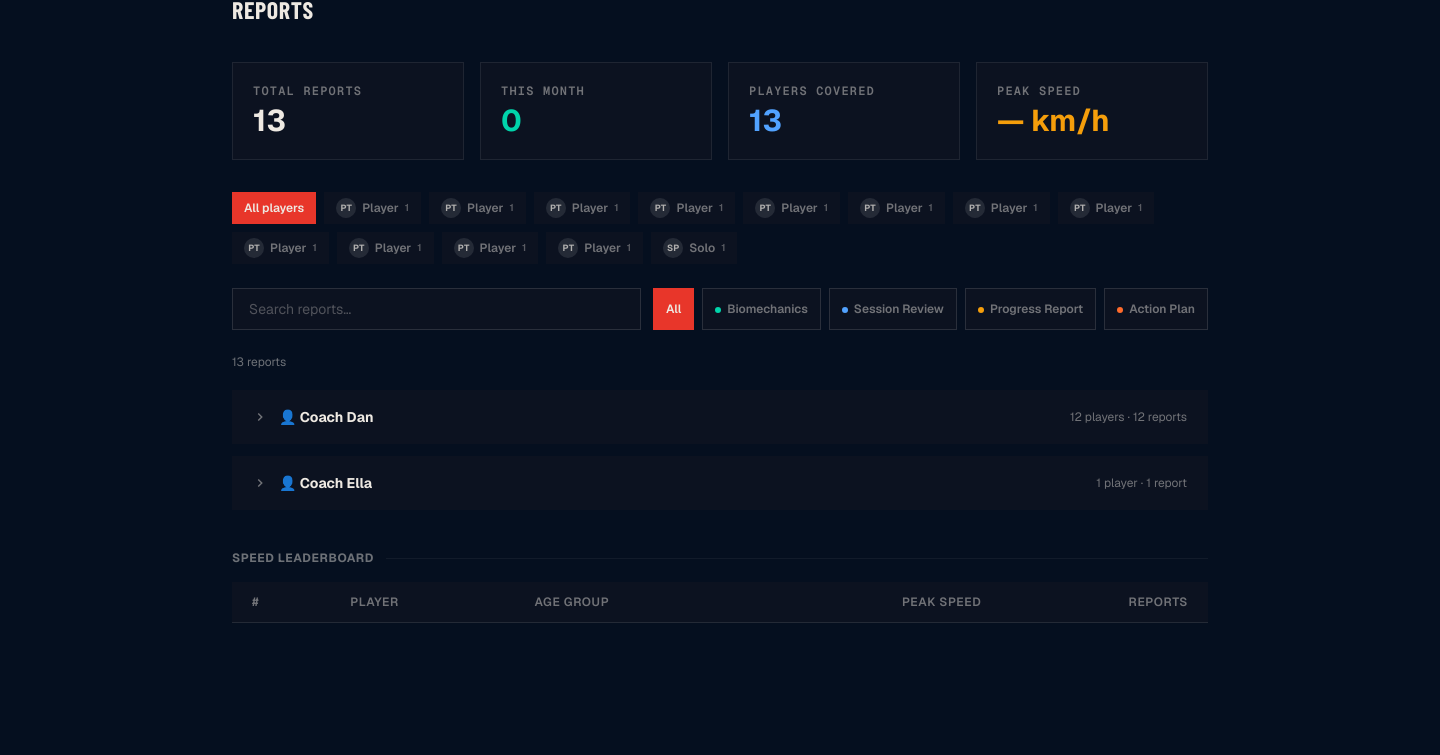
Test case: ReportsClient › paginates a large roster within an open coach group and resets to page 1 on a new coach
This screenshot has width=1440, height=755.
Click the text "👤 Coach Dan" at [326, 417], box 279,408 -> 374,426
(page scrolled)
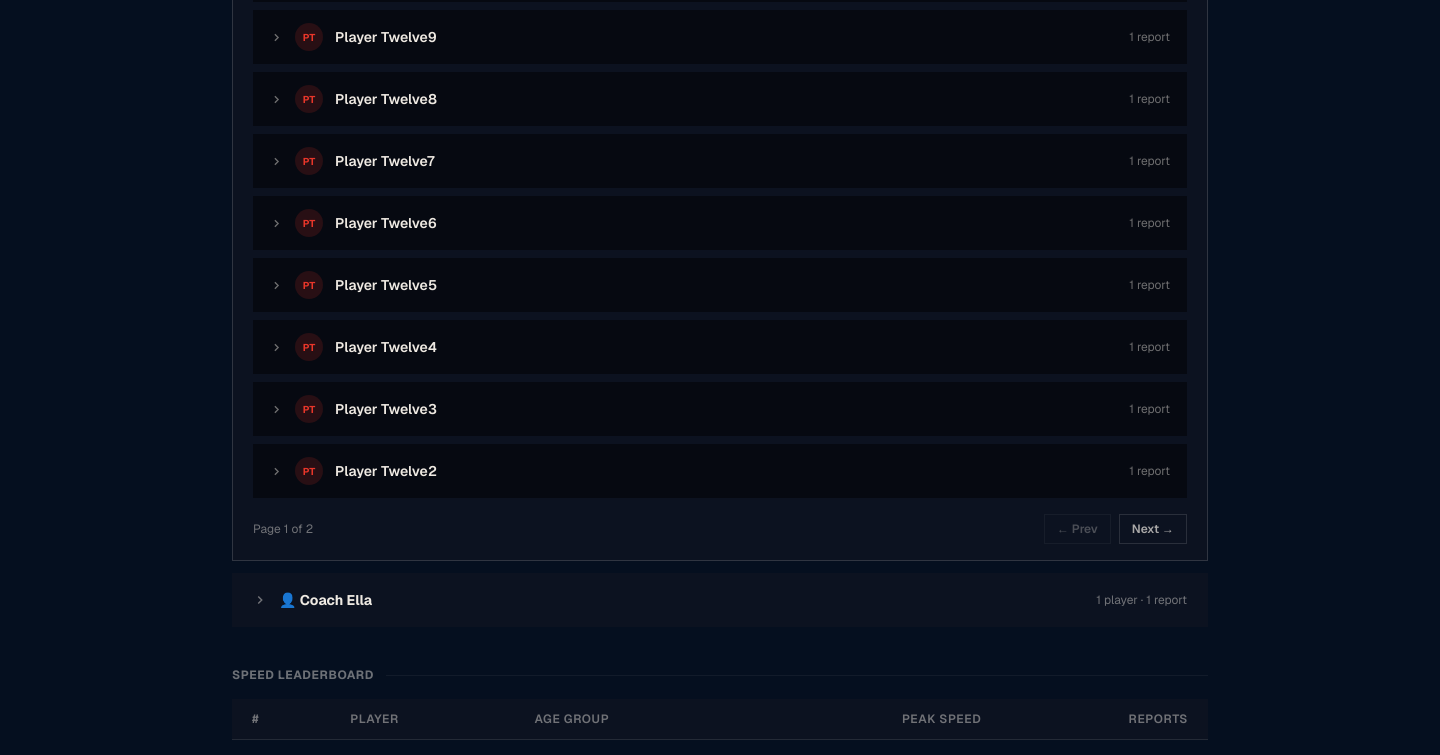
Expected: the text "Player Twelve0" is not shown
Now the text "Page 1 of 2" is shown, box 253,521 -> 313,537
Click the button "Next →" at [1153, 529], box 1119,514 -> 1187,544
(page scrolled)
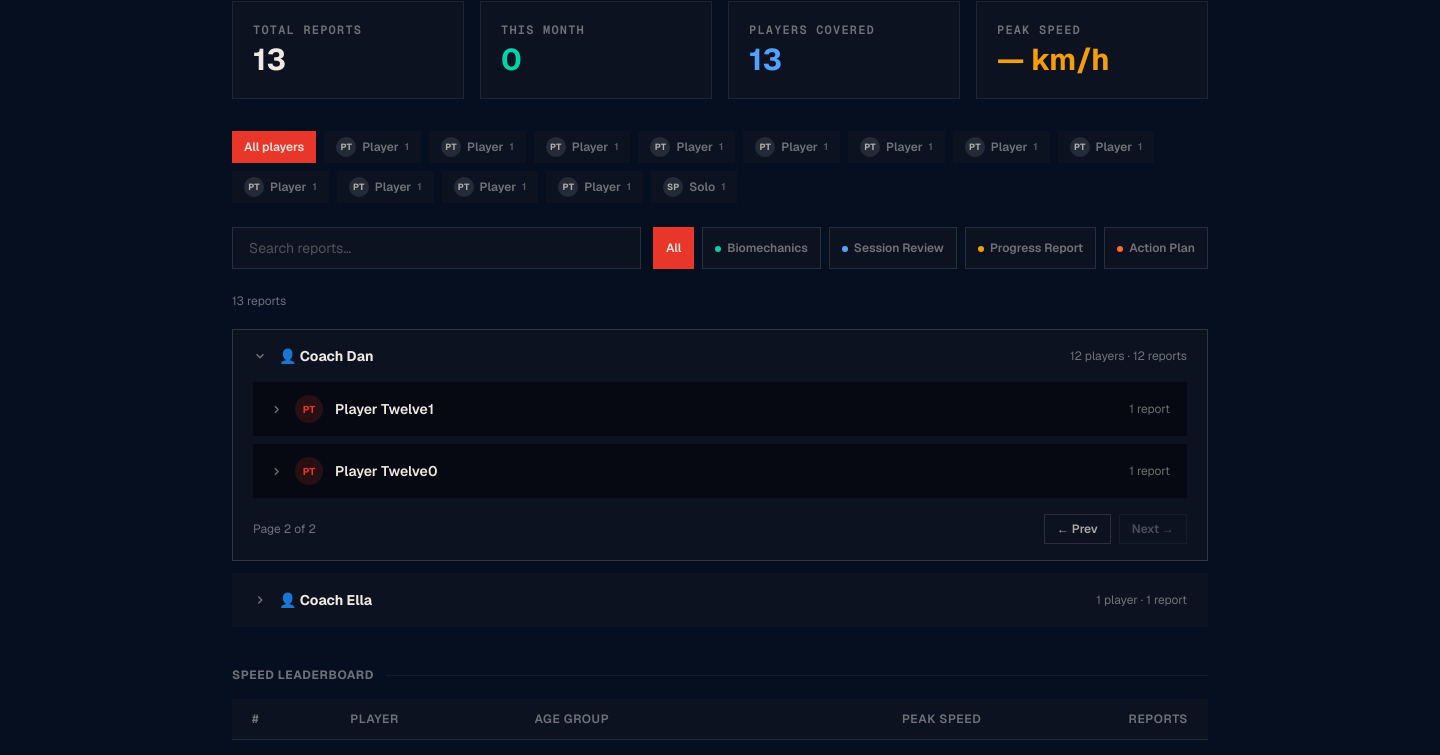
Now the text "Player Twelve0" is shown, box 335,462 -> 438,480
// Opening a different coach's (smaller) group starts back on page 1, not stranded on page 2.
Click the text "👤 Coach Ella" at [326, 600], box 279,591 -> 372,609
(page scrolled)
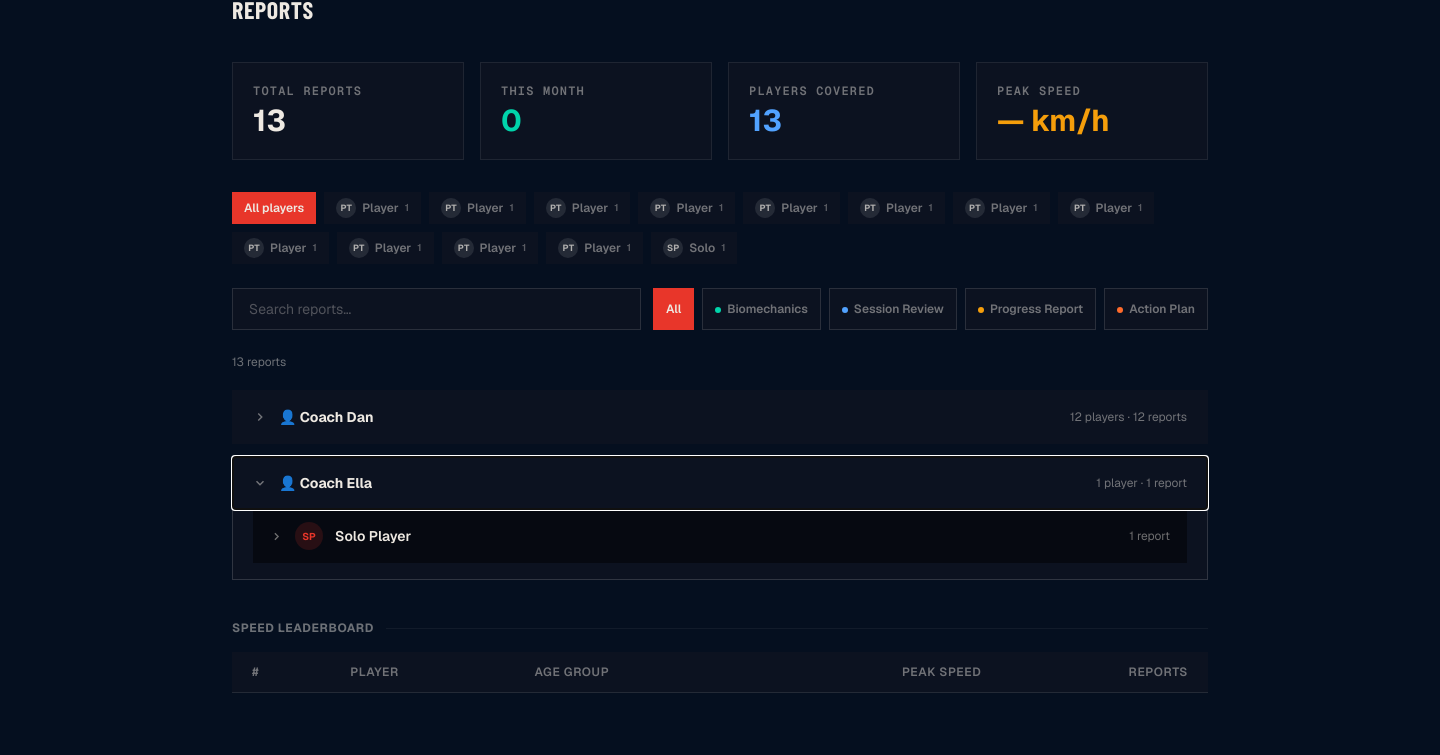
Expected: the text "Page 1 of 2" is not shown
Now the text "Solo Player" is shown, box 335,527 -> 411,545
Click the text "👤 Coach Dan" at [326, 417], box 279,408 -> 374,426
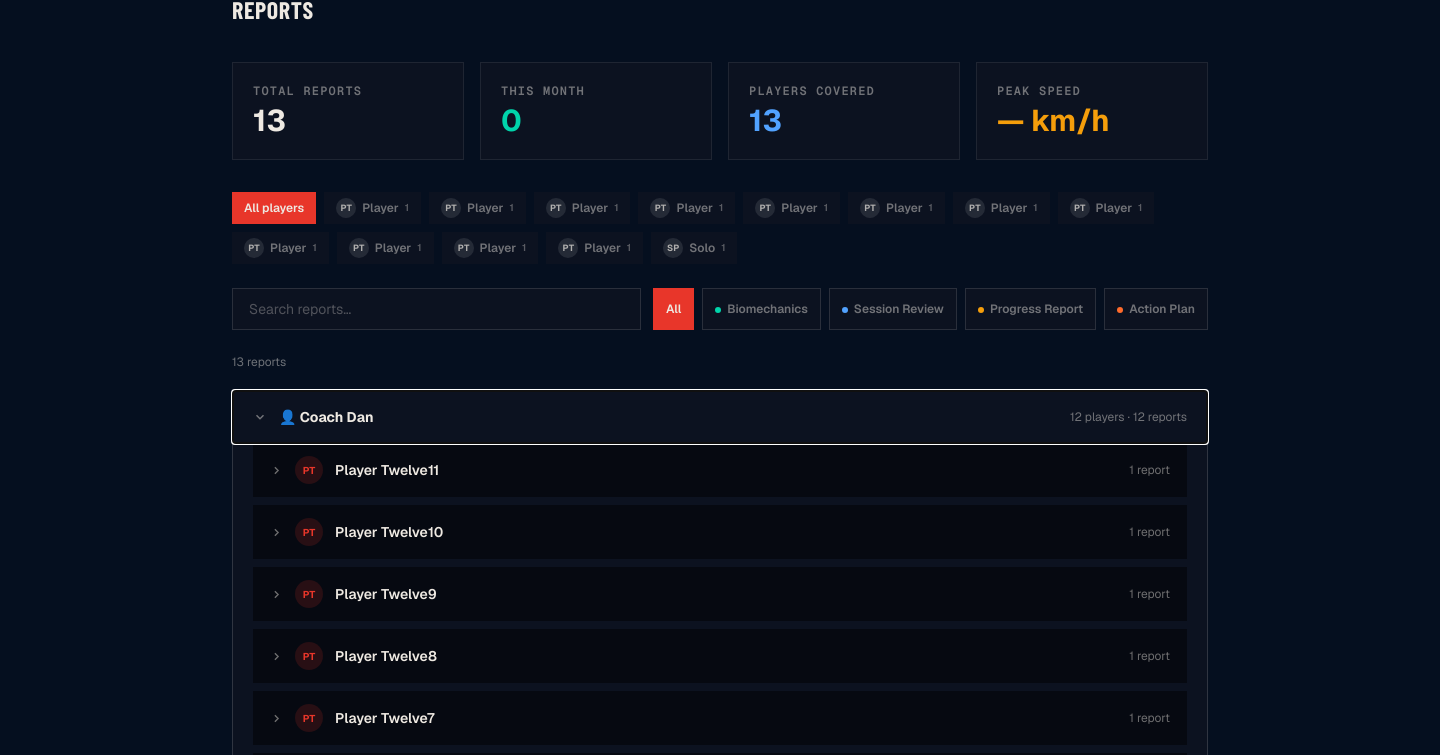
Now the text "Player Twelve11" is shown, box 335,461 -> 439,479
